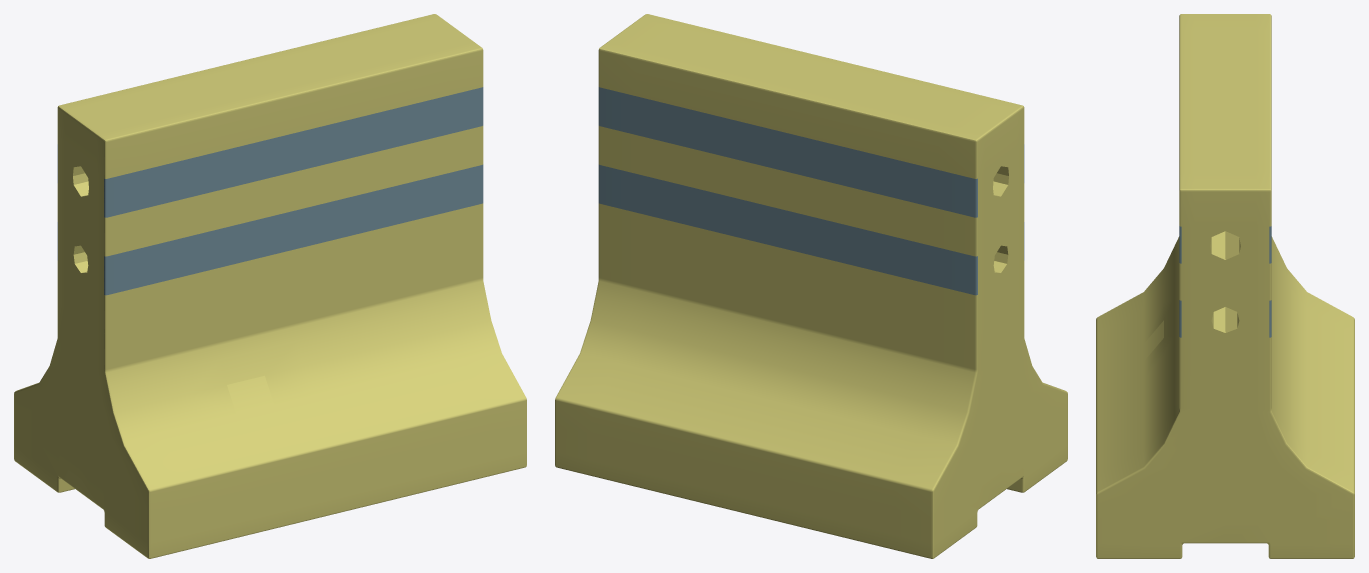
Rendered from green_base_blue_line.fbx.
3 renders of one model, left to right at view 1: azimuth 30°, elevation 25°; view 2: azimuth 150°, elevation 25°; view 3: azimuth 270°, elevation 25°, orthographic. The views are drawn at different scales.
Visible parts, largest first — view 1: pCube1; view 2: pCube1; view 3: pCube1.
Boxes of the visible parts, <box> form: pCube1: <box>14,14,526,558</box>; pCube1: <box>555,14,1067,558</box>; pCube1: <box>1096,14,1354,558</box>.
Size of the model in its own units: 6.05 by 5.91 by 3.75.
